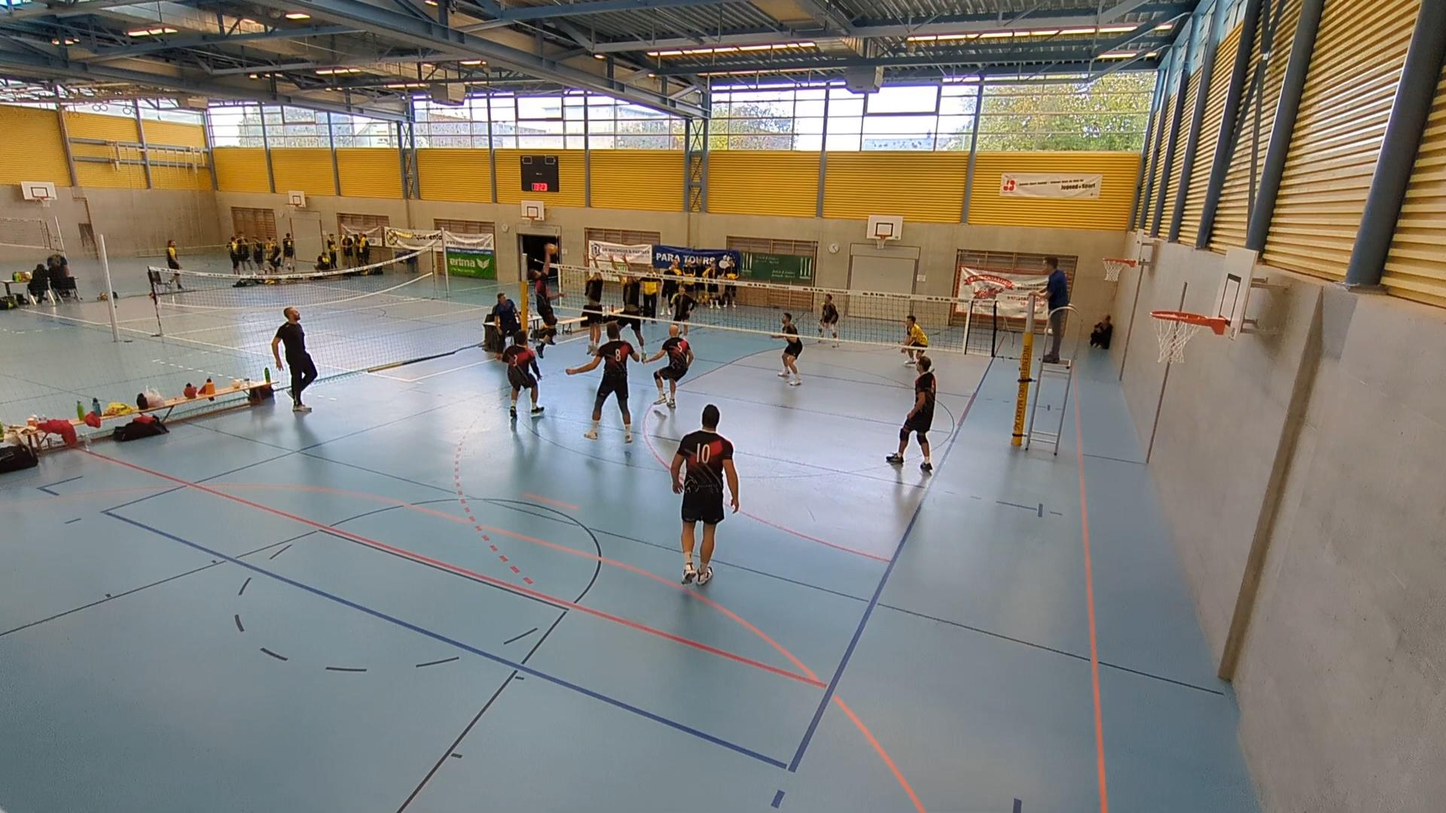attacco: (530, 243, 558, 359)
muro: (606, 247, 647, 365), (575, 247, 603, 360)
